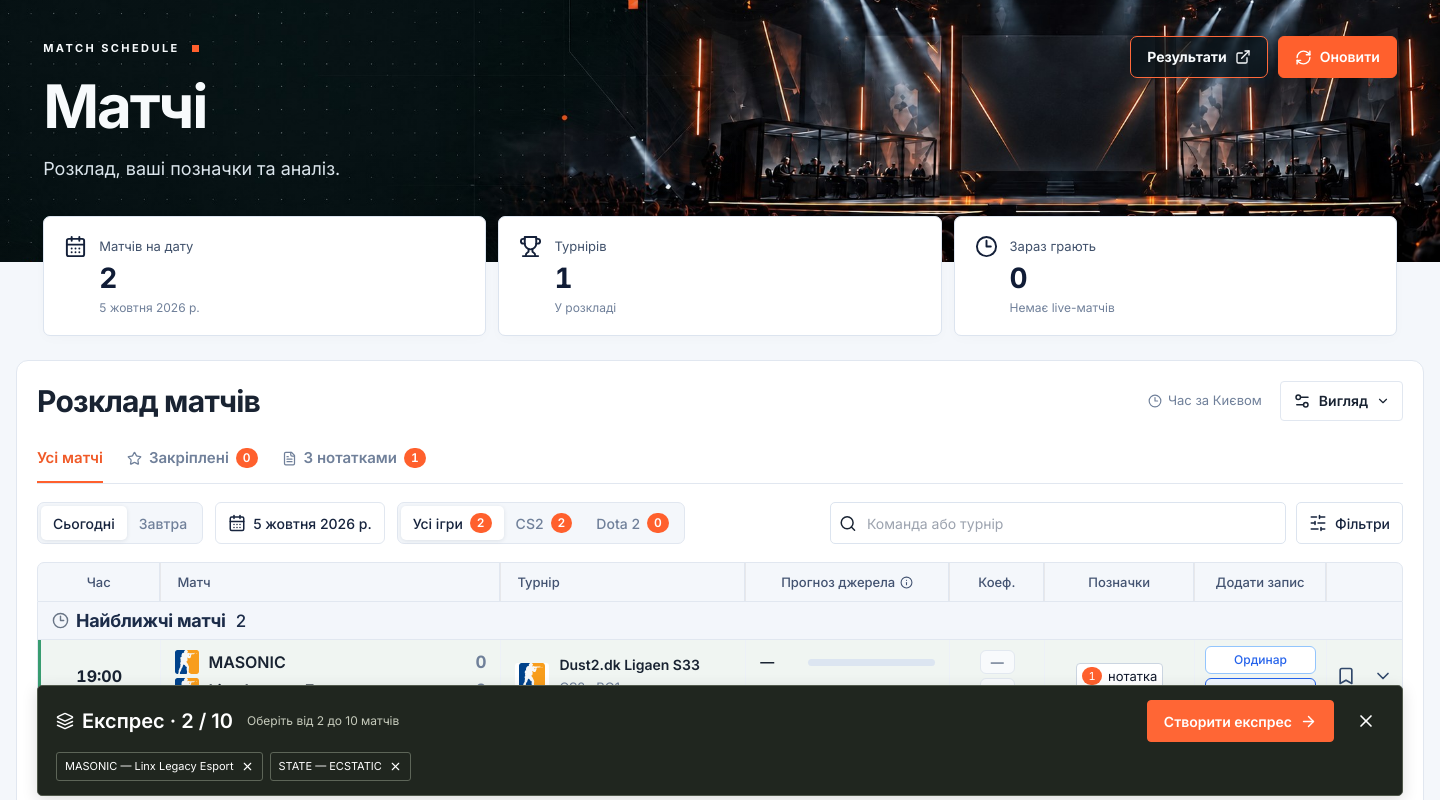
Test: match schedule interactions › retains express selections while the date filter hides those matches
The width and height of the screenshot is (1440, 800).
Click the button "Завтра". click: (163, 524)
box: [127,506,199,540]
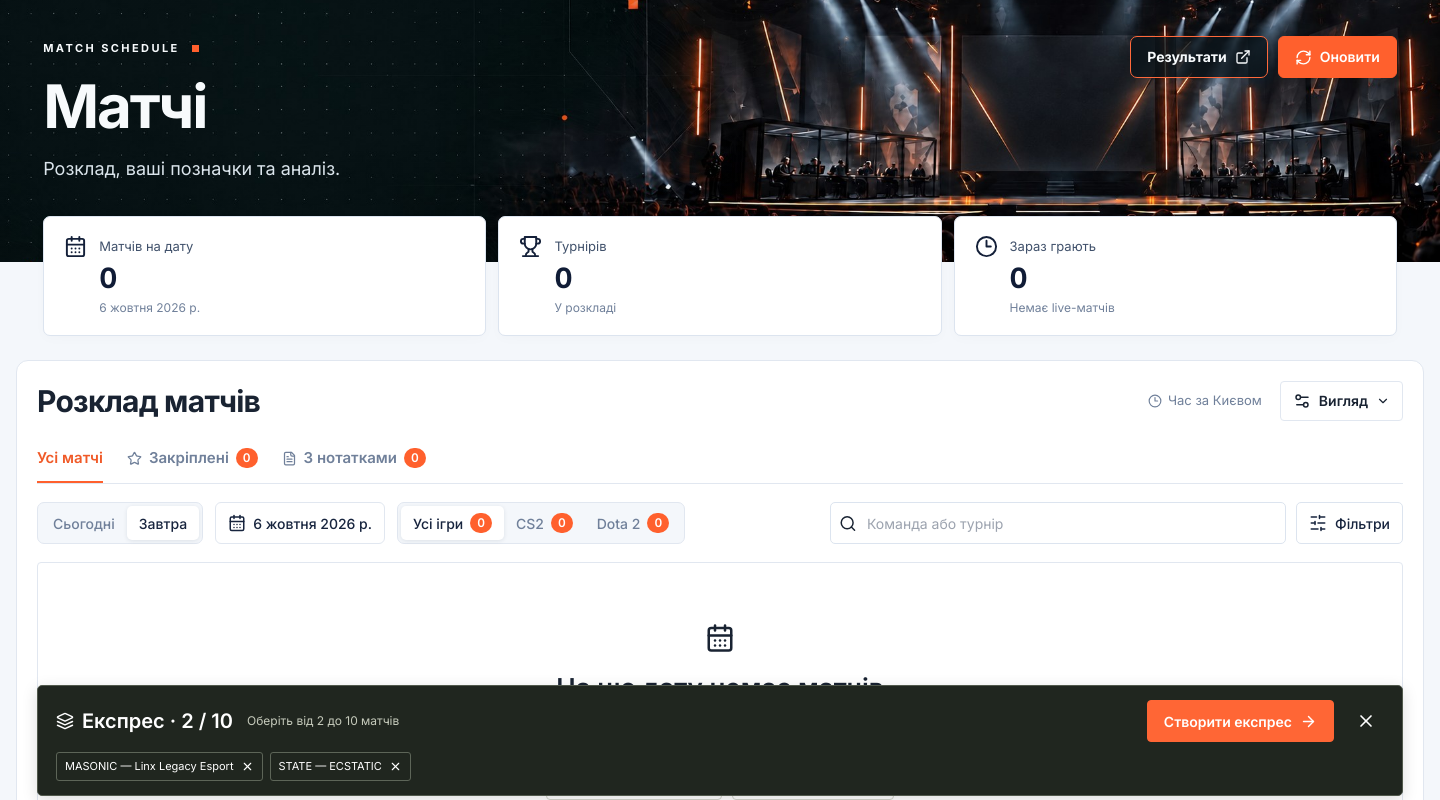
Expected: the button "Створити експрес" is enabled, [1147,700,1334,742]
Expected: the heading "На цю дату немає матчів" is shown, [556,668,884,708]
